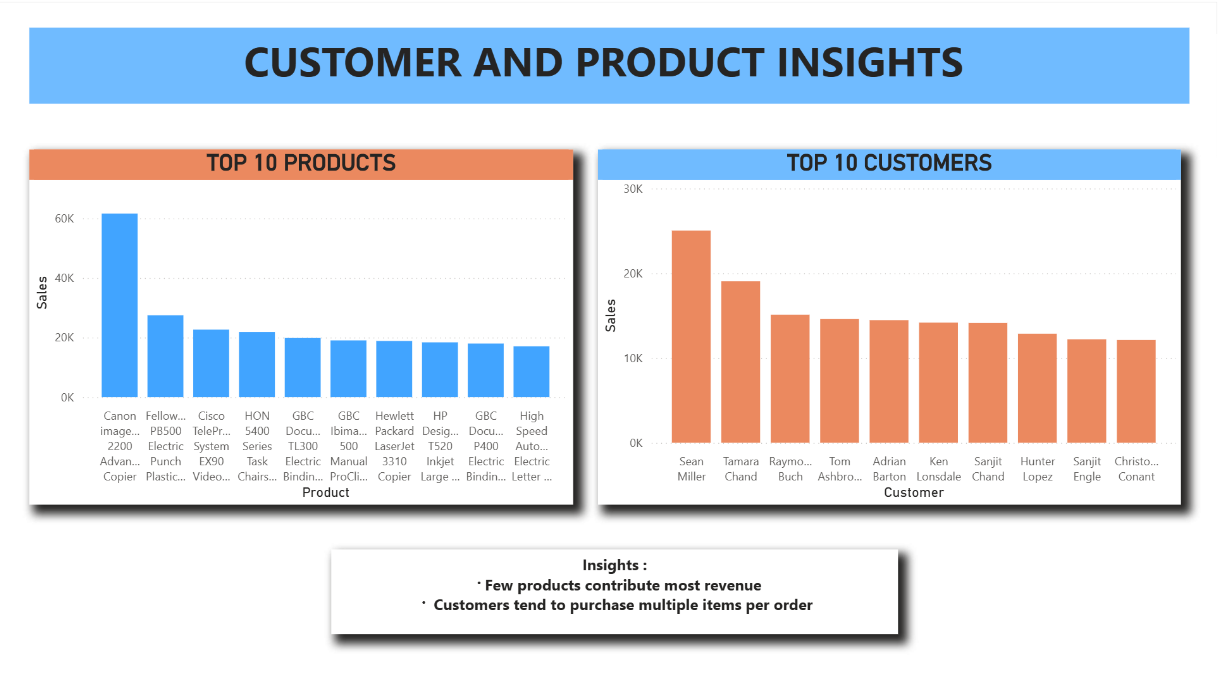

The dashboard page shown, as its layout file describes it:
{"tool":"powerbi","page":{"name":"Page 2","canvas":[1280,720],"ordinal":2},"visuals":[{"type":"clusteredColumnChart","title":"TOP 10 CUSTOMERS","fields":{"Category":["train.Customer Name"],"Y":["Sum(train.Sales)"]},"box":[629.8,155.1,612,373.2],"z":0},{"type":"clusteredColumnChart","title":"TOP 10 PRODUCTS","fields":{"Category":["train.Product Name"],"Y":["Sum(train.Sales)"]},"box":[32.9,155.1,570.8,373.2],"z":1000},{"type":"textbox","box":[32.9,27.4,1218.5,79.6],"z":2000},{"type":"textbox","box":[349.9,575,595.5,89.2],"z":3000}]}

Visuals, with their boxes in screenshot pixels (x1, y1, x2, y2), scaled from the page's 1280x720 canvas onto the 1218x682 screenshot:
"TOP 10 CUSTOMERS" clusteredColumnChart: bbox(599, 147, 1182, 500)
"TOP 10 PRODUCTS" clusteredColumnChart: bbox(31, 147, 574, 500)
textbox: bbox(31, 26, 1191, 101)
textbox: bbox(333, 545, 900, 629)
